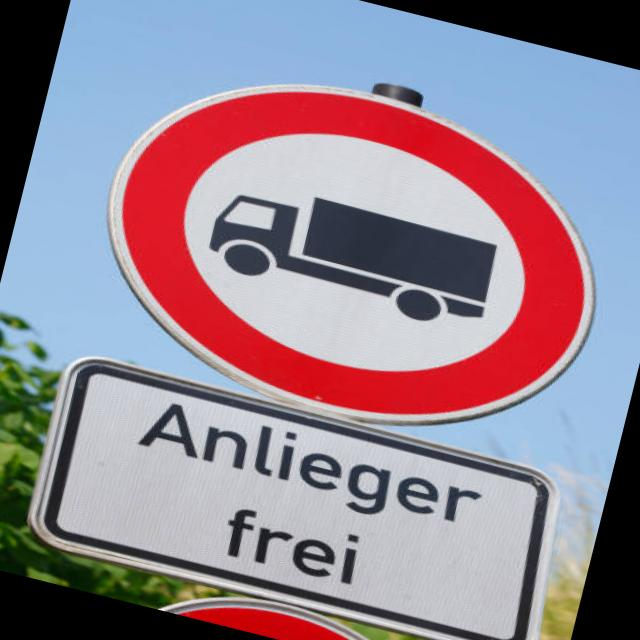do_not_enter: (62, 26, 640, 477)
